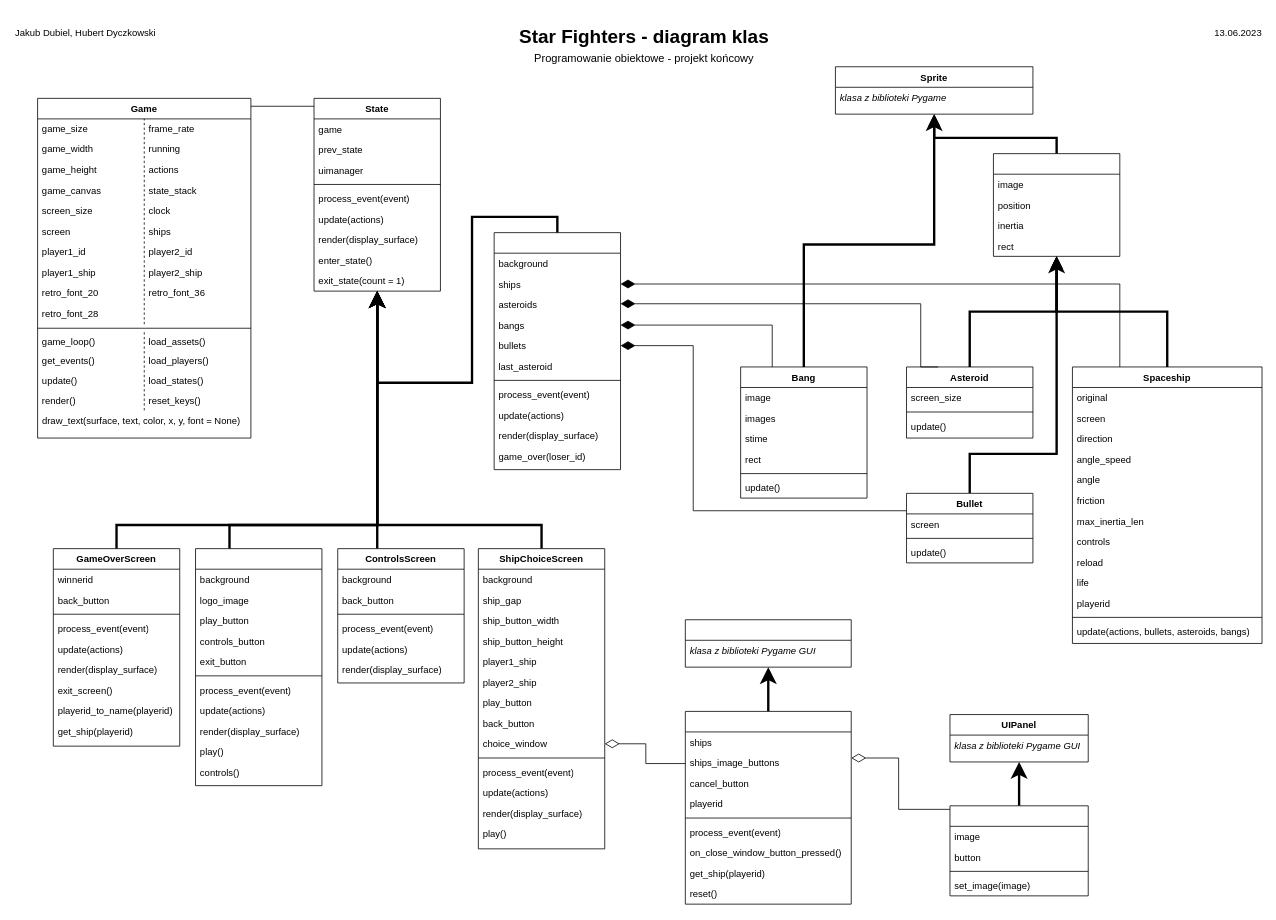
The diagram is 1276 pixels wide and 920 high, and some of its shapes have lost their labels. The shapes that lost their labels are listed below. From the top down, each one's box as (x1, y1, x2, y2) in pixels, then its label:
(993, 153, 1120, 256): FlyingObject
(493, 232, 621, 470): GameScreen
(685, 619, 851, 667): UIWindow
(195, 548, 322, 786): MenuScreen
(685, 711, 851, 904): ShipChoiceWindow
(949, 805, 1088, 896): ImagePanelButton
